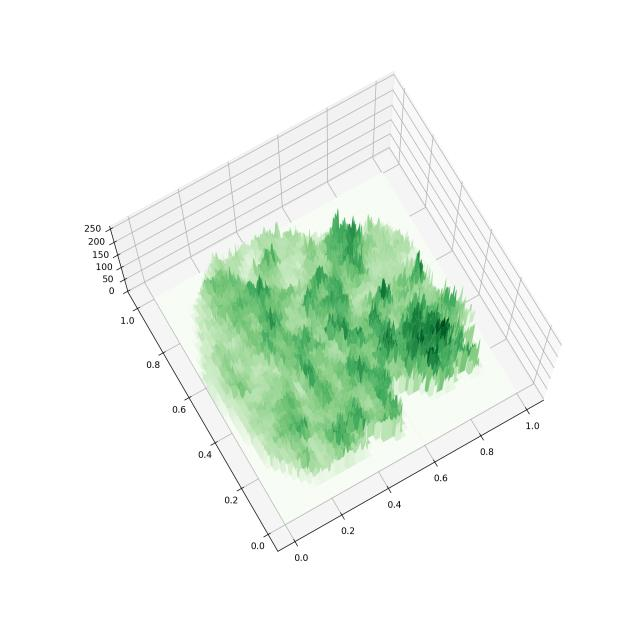spruce: (66, 28, 605, 605)
